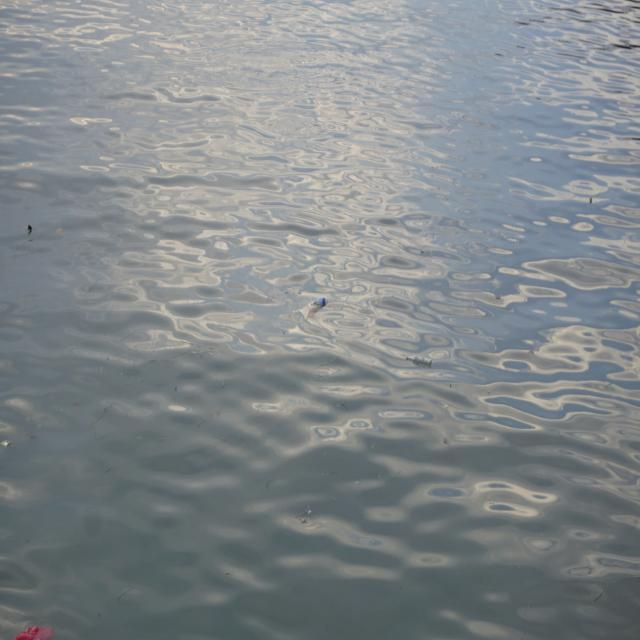Botol Plastik: (311, 294, 330, 310)
